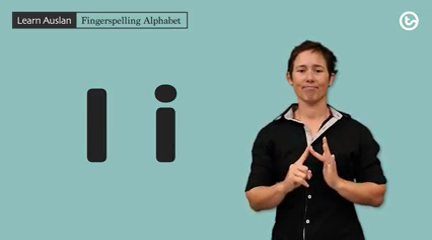I: (277, 133, 344, 200)
